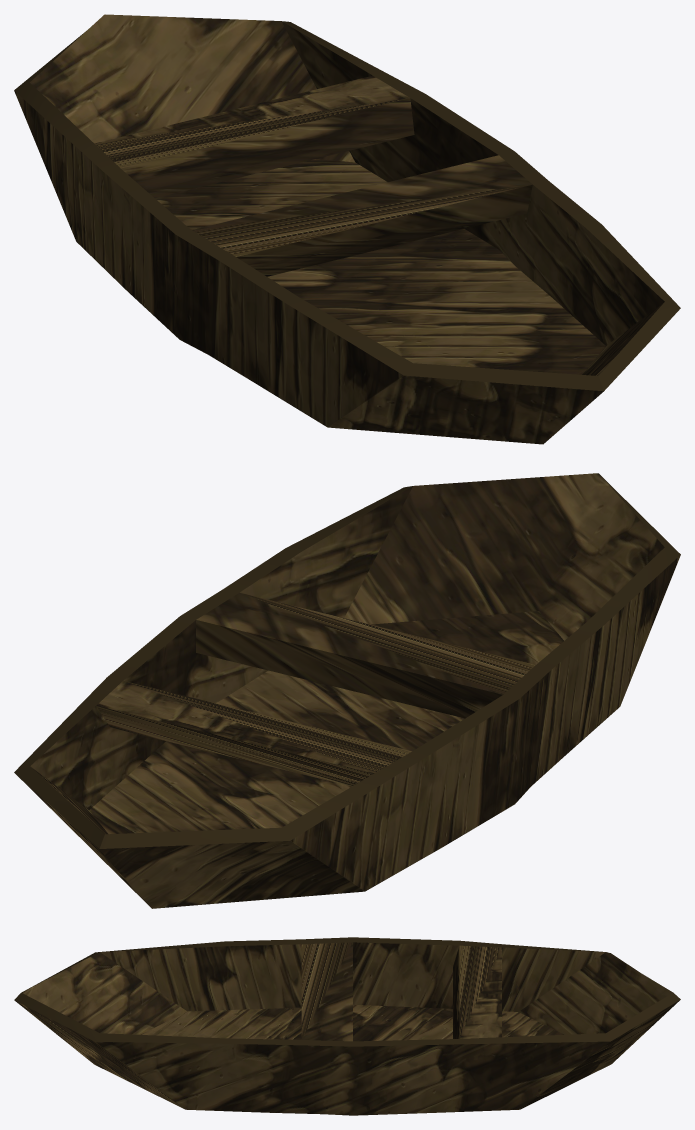
The model's file is boat2.fbx.
The picture shows the model from 3 angles, top to bottom: view 1: azimuth 30°, elevation 25°; view 2: azimuth 150°, elevation 25°; view 3: azimuth 270°, elevation 25°; orthographic projection. The views are drawn at different scales.
Visible parts, largest first — view 1: Box170; view 2: Box170; view 3: Box170.
Boxes of the visible parts, box(x1,y1,x2,y2) form: Box170: box(14, 14, 680, 444); Box170: box(14, 473, 680, 908); Box170: box(14, 937, 680, 1115).
Size of the model in its own units: 9.39 by 2.97 by 24.19.
